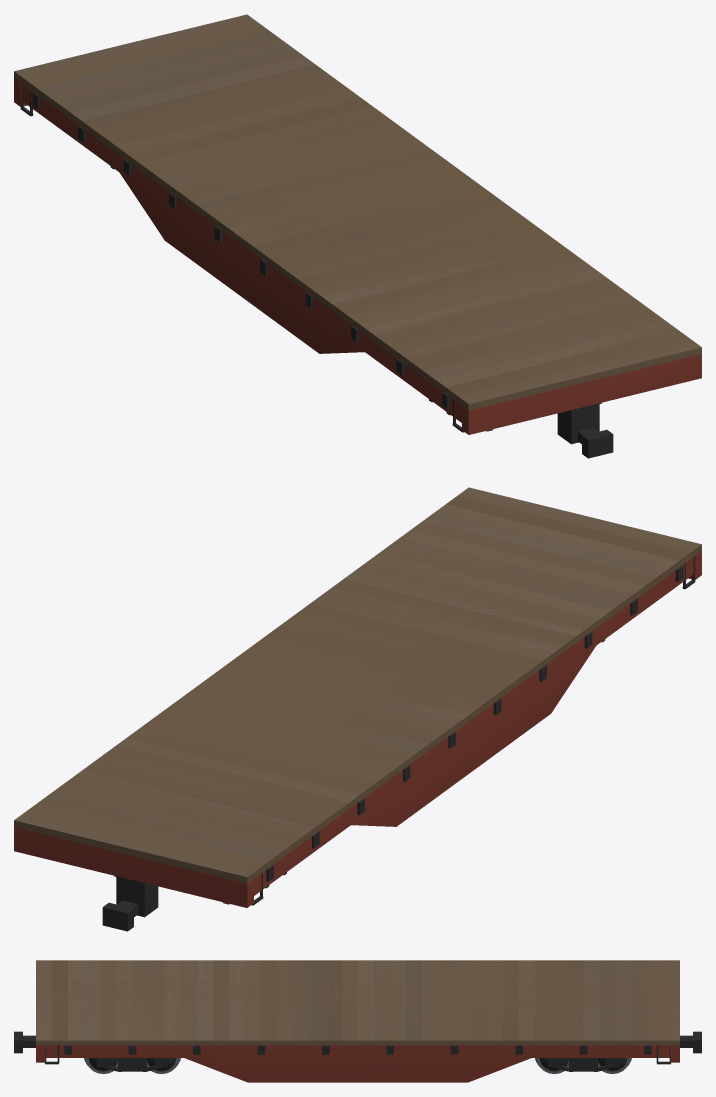
File: flat.glb
The picture shows the model from 3 angles, top to bottom: view 1: azimuth 30°, elevation 25°; view 2: azimuth 150°, elevation 25°; view 3: azimuth 270°, elevation 25°; orthographic projection. The views are drawn at different scales.
Parts seen in each view (by area): view 1: Body, Far; view 2: Body, Far; view 3: Body, Far, Wheels_F1, Wheels_F2, Wheels_R1, Wheels_R2.
Part boxes in pixels (left/top/right/bottom): Body: left=14, top=14, right=701, bottom=458; Far: left=15, top=14, right=701, bottom=415; Body: left=14, top=487, right=701, bottom=931; Far: left=15, top=487, right=699, bottom=888; Body: left=14, top=960, right=701, bottom=1082; Far: left=36, top=960, right=679, bottom=1071; Wheels_F1: left=598, top=1058, right=631, bottom=1073; Wheels_F2: left=535, top=1058, right=568, bottom=1073; Wheels_R1: left=147, top=1058, right=180, bottom=1073; Wheels_R2: left=84, top=1058, right=117, bottom=1073.
Size of the model in its own units: 5.99 by 1.83 by 21.36.
